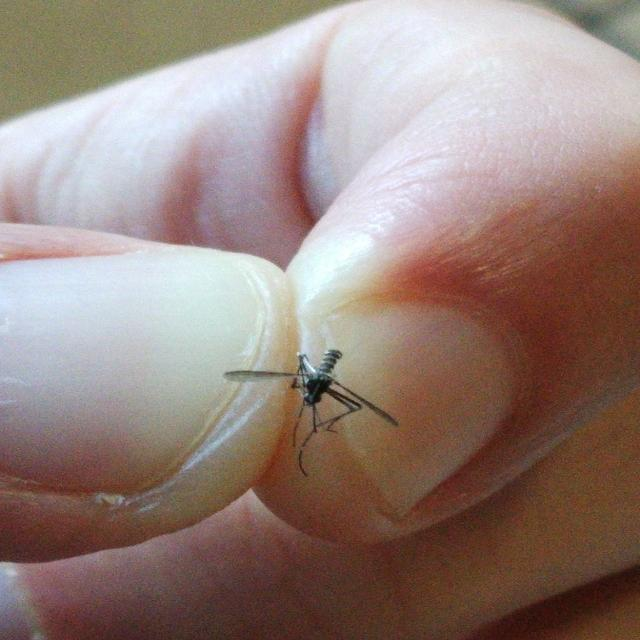albopictus: (218, 338, 404, 478)
